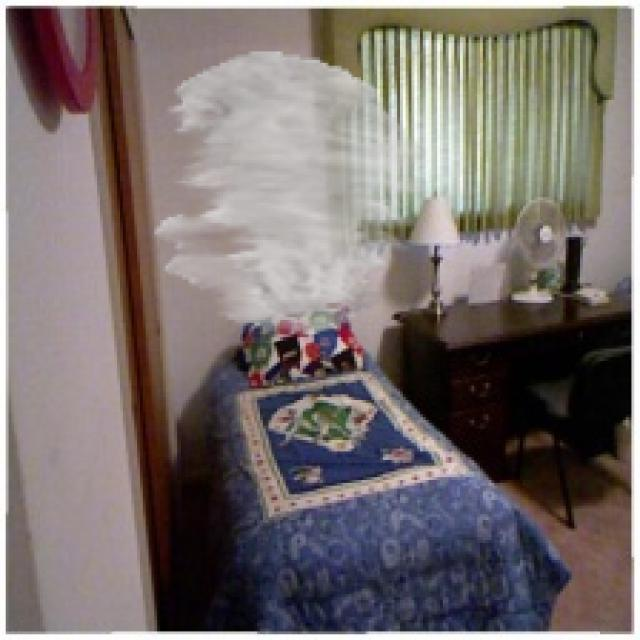smoke: (154, 52, 429, 334)
